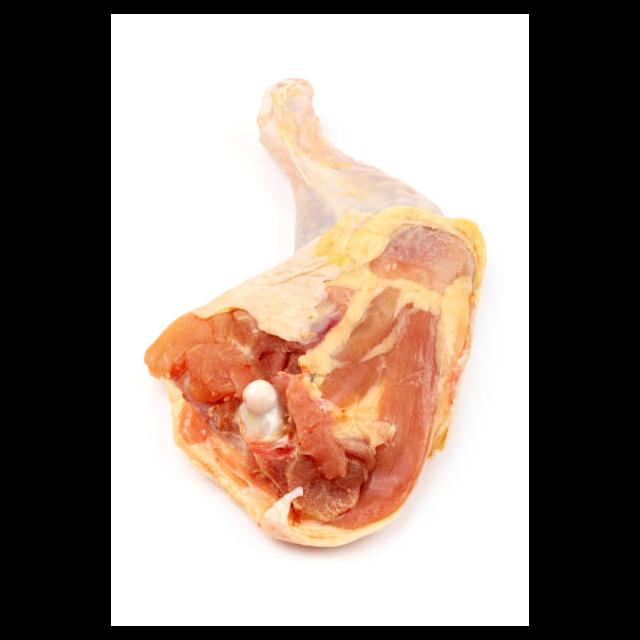chicken: (145, 76, 488, 550)
